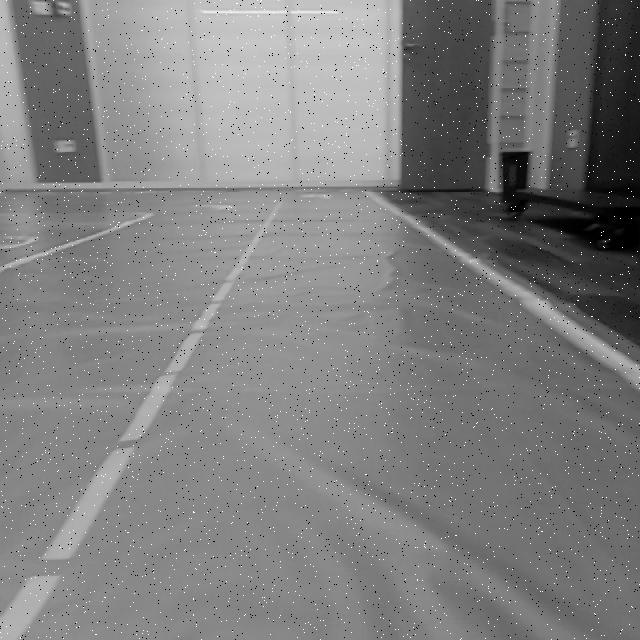left_lane: (0, 201, 280, 638)
right_lane: (367, 193, 640, 391)
